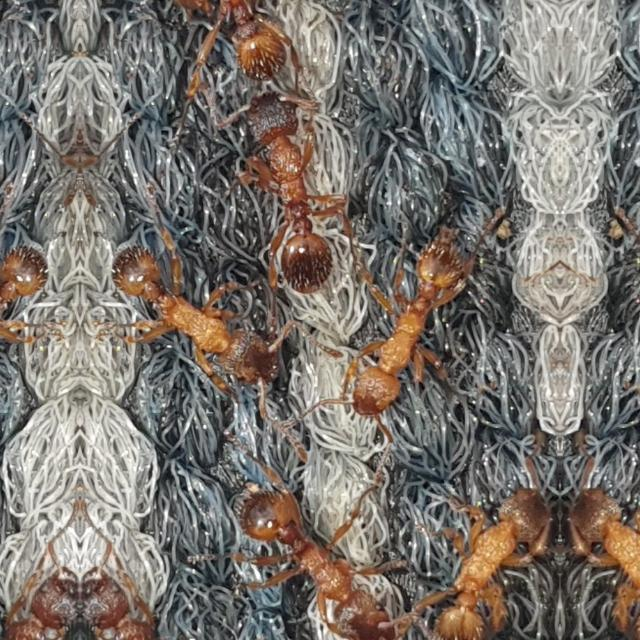Myrmica: (316, 215, 480, 449), (99, 237, 303, 423), (210, 459, 412, 639), (418, 425, 558, 639), (246, 83, 368, 291), (558, 425, 640, 639), (0, 237, 58, 423), (196, 0, 304, 74)
